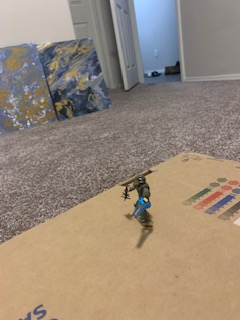soldier: (123, 175, 154, 231)
